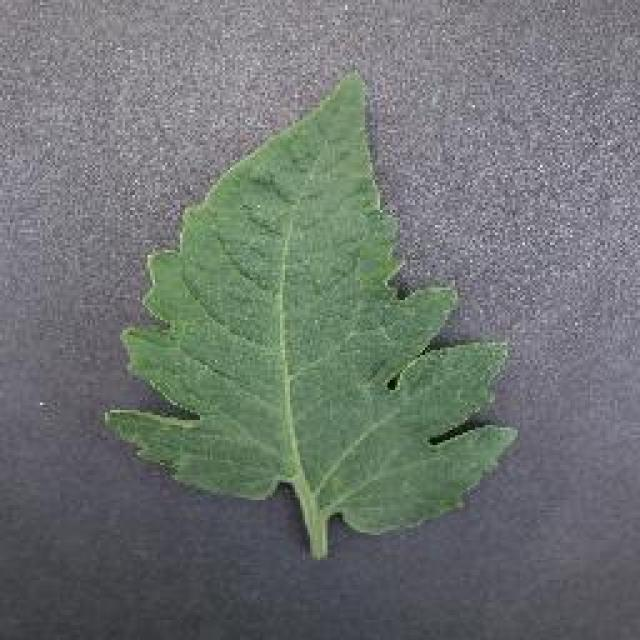Tomato___healthy: (102, 70, 525, 566)
